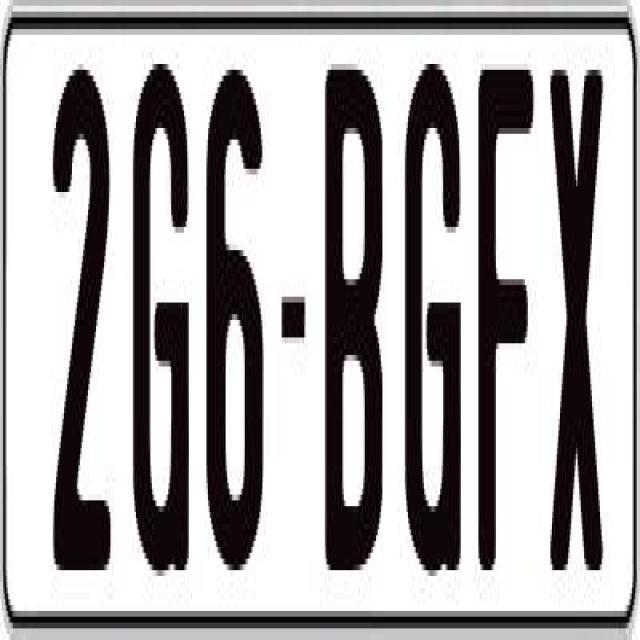2: (53, 58, 120, 576)
6: (203, 52, 267, 570)
B: (323, 70, 387, 606)
F: (476, 52, 532, 570)
G: (402, 46, 466, 558), (133, 58, 189, 588)
X: (547, 52, 610, 564)
